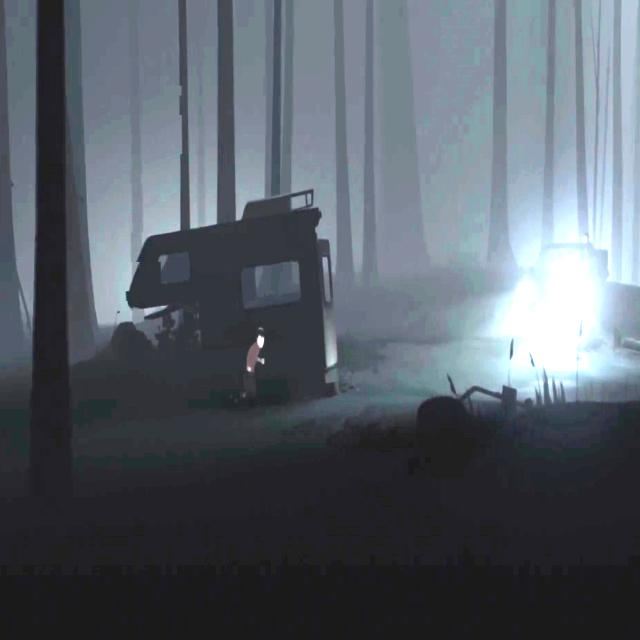boy: (236, 327, 266, 408)
